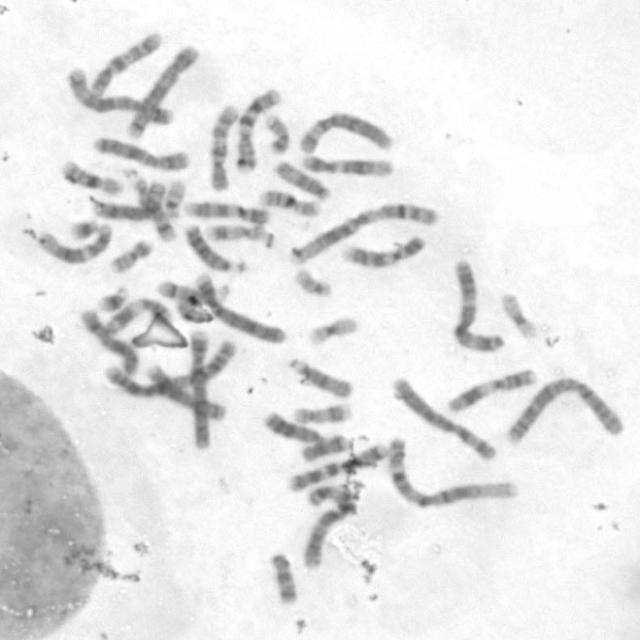A1: (386, 435, 522, 511), (288, 202, 438, 266)
A2: (102, 338, 239, 399), (505, 377, 626, 446)
A3: (449, 256, 506, 352), (303, 485, 354, 569)
B4: (194, 271, 288, 345), (186, 327, 214, 452)
B5: (127, 45, 201, 139), (66, 66, 178, 128)
C10: (89, 32, 164, 100), (206, 104, 240, 194)
C11: (447, 368, 539, 413), (102, 297, 176, 336)
C12: (36, 221, 114, 264), (300, 153, 396, 179)
C6: (391, 376, 498, 462), (296, 111, 394, 155)
C7: (286, 442, 389, 493), (234, 87, 281, 176)
C8: (80, 306, 140, 379), (91, 179, 167, 220)
C9: (340, 235, 427, 270), (182, 198, 270, 226)
D13: (184, 222, 248, 273), (262, 409, 326, 444)
D14: (121, 166, 179, 244), (155, 278, 232, 305)
D15: (288, 356, 356, 399), (273, 159, 333, 201)
E16: (58, 158, 124, 197), (258, 187, 322, 220)
E17: (290, 400, 356, 426), (202, 222, 266, 243)
E18: (299, 432, 353, 463), (270, 552, 299, 604)
F19: (497, 291, 539, 341), (306, 316, 359, 346)
F20: (108, 237, 154, 274), (264, 113, 292, 157)
G21: (95, 284, 131, 313), (68, 217, 99, 243)
G22: (292, 267, 336, 297), (162, 178, 188, 220)
X: (91, 135, 192, 174)
